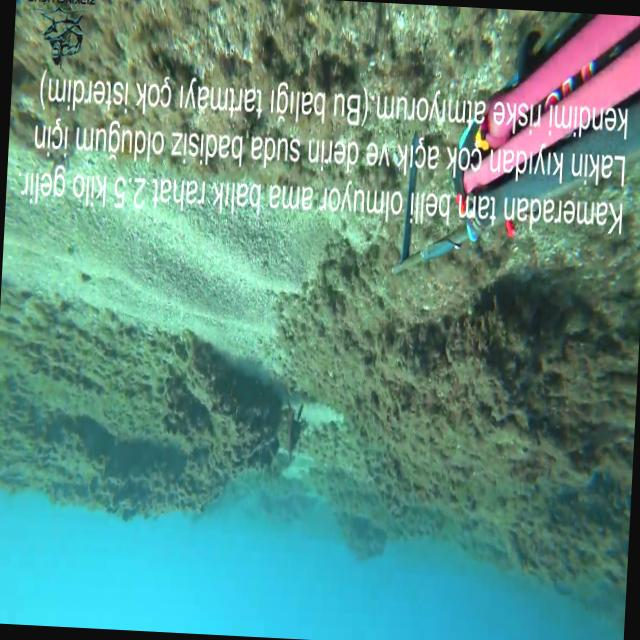Aslan Baligi: (270, 397, 310, 482)
